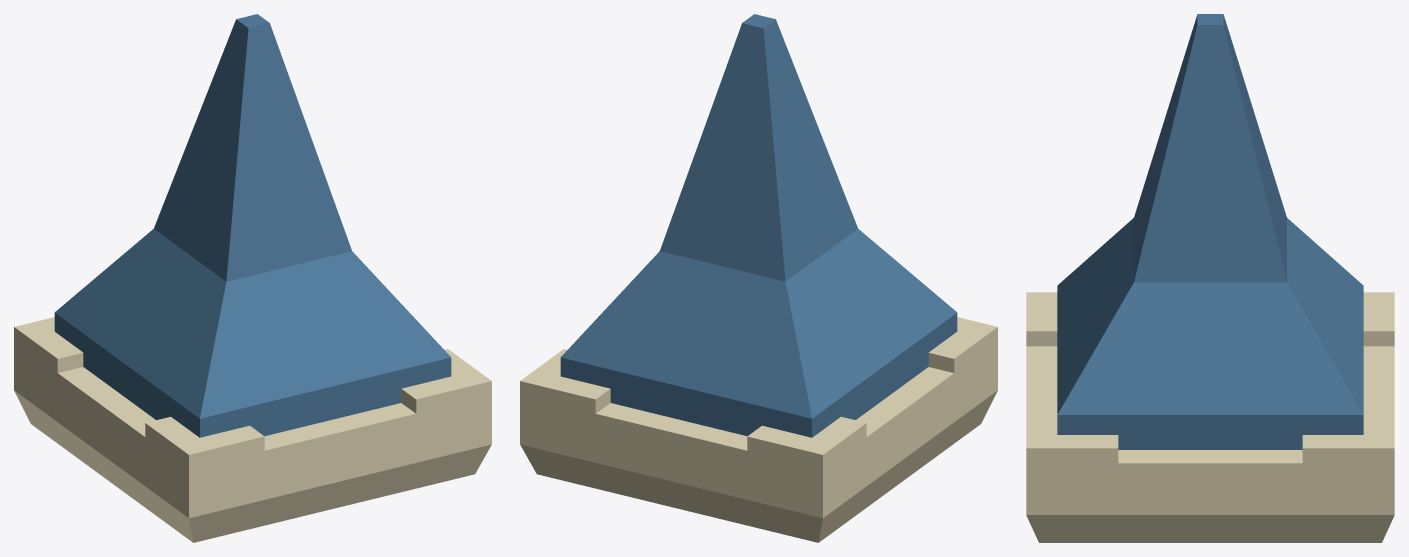
Rendered from towerSquareTopRoofHigh.fbx.
The picture shows the model from 3 angles, left to right: view 1: azimuth 30°, elevation 25°; view 2: azimuth 150°, elevation 25°; view 3: azimuth 270°, elevation 25°; orthographic projection. The views are drawn at different scales.
Parts seen in each view (by area): view 1: towerSquareTopRoofHigh; view 2: towerSquareTopRoofHigh; view 3: towerSquareTopRoofHigh.
Boxes of the visible parts, x1,y1,x2,y2 form: towerSquareTopRoofHigh: (14,14,491,542); towerSquareTopRoofHigh: (520,14,997,542); towerSquareTopRoofHigh: (1026,14,1394,542).
Size of the model in its own units: 10 by 13.5 by 10.
